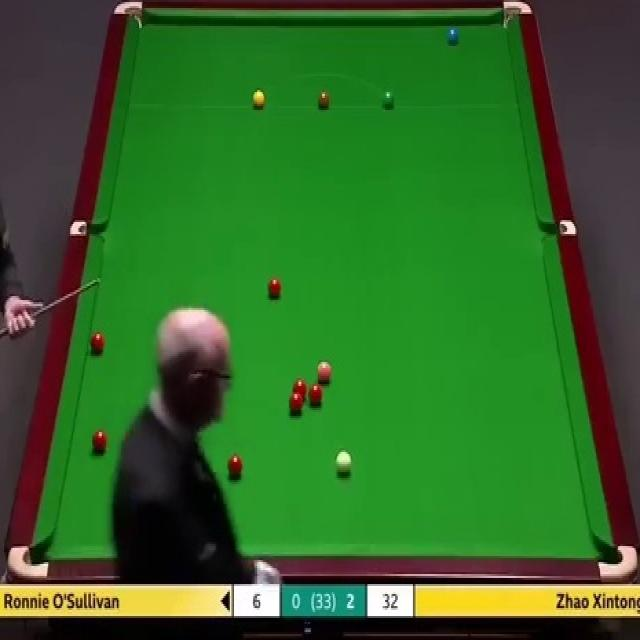blue-ball: (448, 27, 458, 48)
brown-ball: (317, 92, 330, 109)
green-ball: (382, 88, 396, 112)
pink-ball: (315, 359, 332, 380)
red-ball: (226, 453, 244, 477), (287, 390, 305, 414), (290, 378, 308, 402), (92, 430, 108, 456), (308, 384, 324, 406), (90, 330, 105, 352), (266, 278, 282, 297)
white-ball: (335, 449, 353, 478)
yellow-ball: (252, 89, 266, 110)
